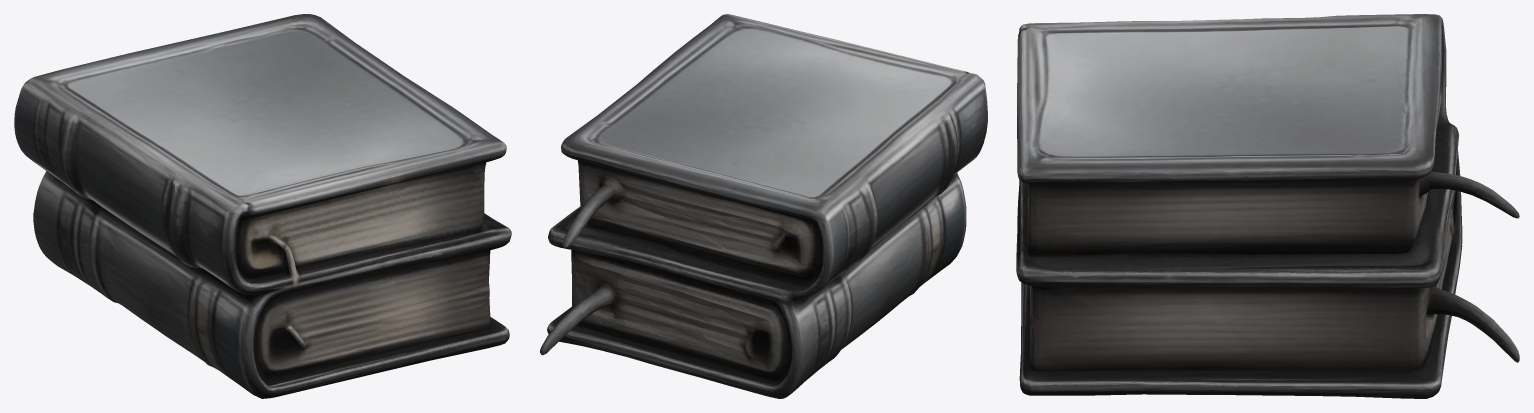
Rendered from book-stack.glb.
The picture shows the model from 3 angles, left to right: view 1: azimuth 30°, elevation 25°; view 2: azimuth 150°, elevation 25°; view 3: azimuth 270°, elevation 25°; orthographic projection. The views are drawn at different scales.
Parts seen in each view (by area): view 1: world; view 2: world; view 3: world.
Boxes of the visible parts, <box> form: world: <box>14,14,511,398</box>; world: <box>540,14,987,398</box>; world: <box>1016,14,1519,398</box>.
Size of the model in its own units: 0.793 by 0.5123 by 0.9981.
Materials: 1 (1 with a texture image).
